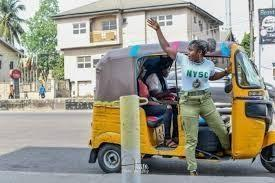keke: (86, 39, 275, 183)
